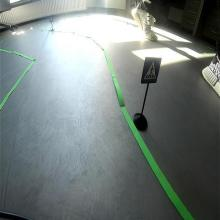crosswalk: (140, 57, 162, 84)
